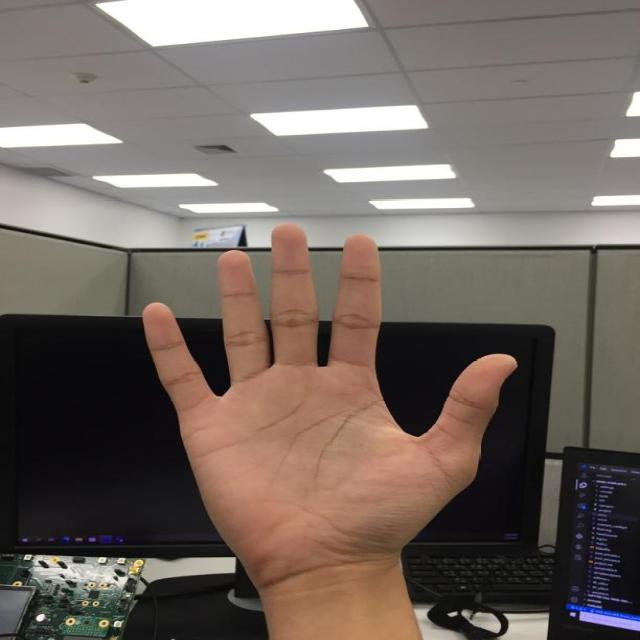hand: (139, 224, 516, 574)
